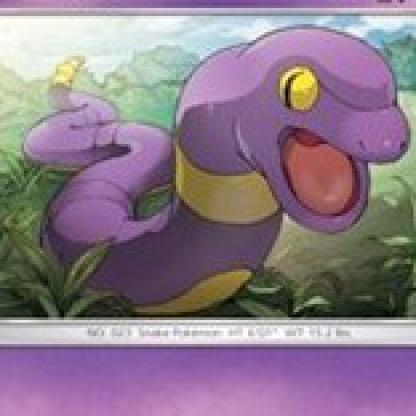Ekans: (30, 25, 413, 316)
